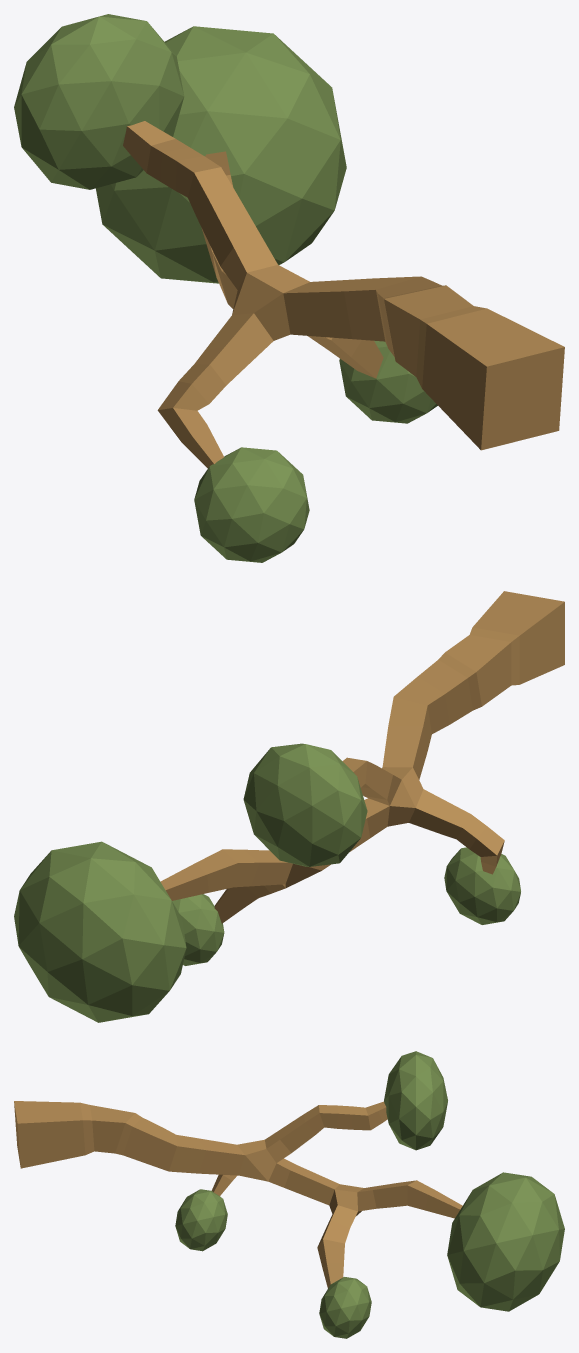
Rendered from Terrain_tree.fbx.
The picture shows the model from 3 angles, top to bottom: view 1: azimuth 30°, elevation 25°; view 2: azimuth 150°, elevation 25°; view 3: azimuth 270°, elevation 25°; orthographic projection. The views are drawn at different scales.
Visible parts, largest first — view 1: Tree; view 2: Tree; view 3: Tree.
Boxes of the visible parts, bbox=[...] form: Tree: bbox=[14, 14, 564, 562]; Tree: bbox=[14, 591, 564, 1022]; Tree: bbox=[14, 1051, 564, 1338].
Bounding box in the file's own units: 14818 × 13908 × 31535.
